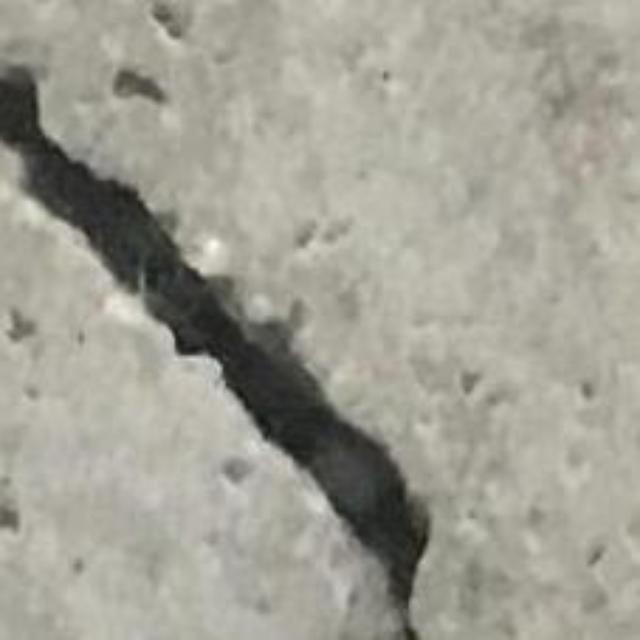crack: (0, 68, 428, 639), (0, 71, 428, 614), (206, 274, 301, 366), (0, 68, 42, 149), (246, 319, 296, 358), (113, 68, 166, 104), (150, 0, 188, 39), (0, 477, 19, 532), (6, 308, 36, 341), (285, 299, 307, 338), (223, 457, 250, 484), (460, 370, 482, 394), (0, 505, 19, 530), (156, 212, 177, 234), (587, 542, 606, 566), (578, 381, 597, 403), (23, 384, 39, 400), (71, 556, 84, 575)
